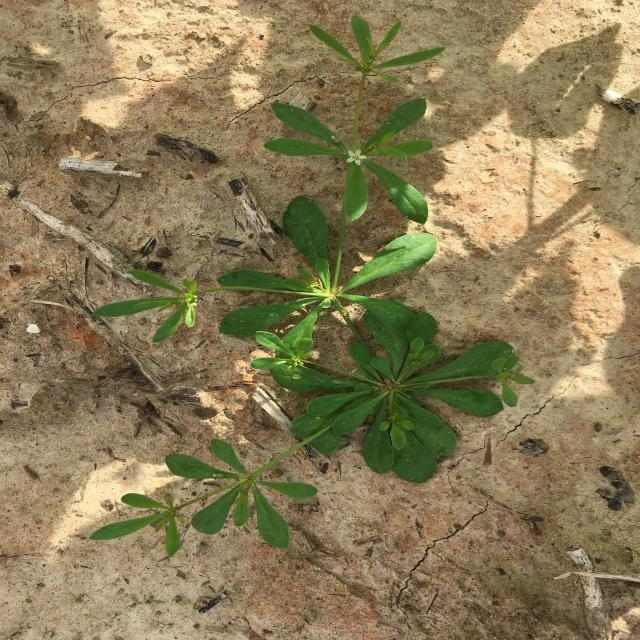Carpetweed: (88, 15, 536, 558)
